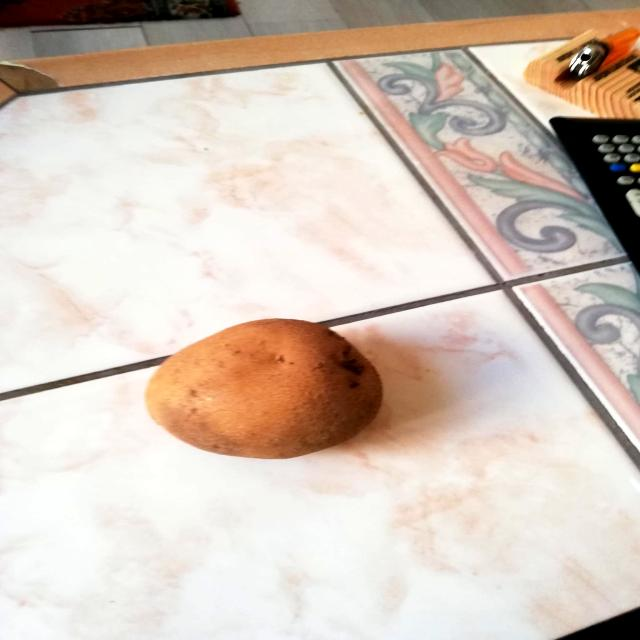potato: (134, 314, 390, 464)
